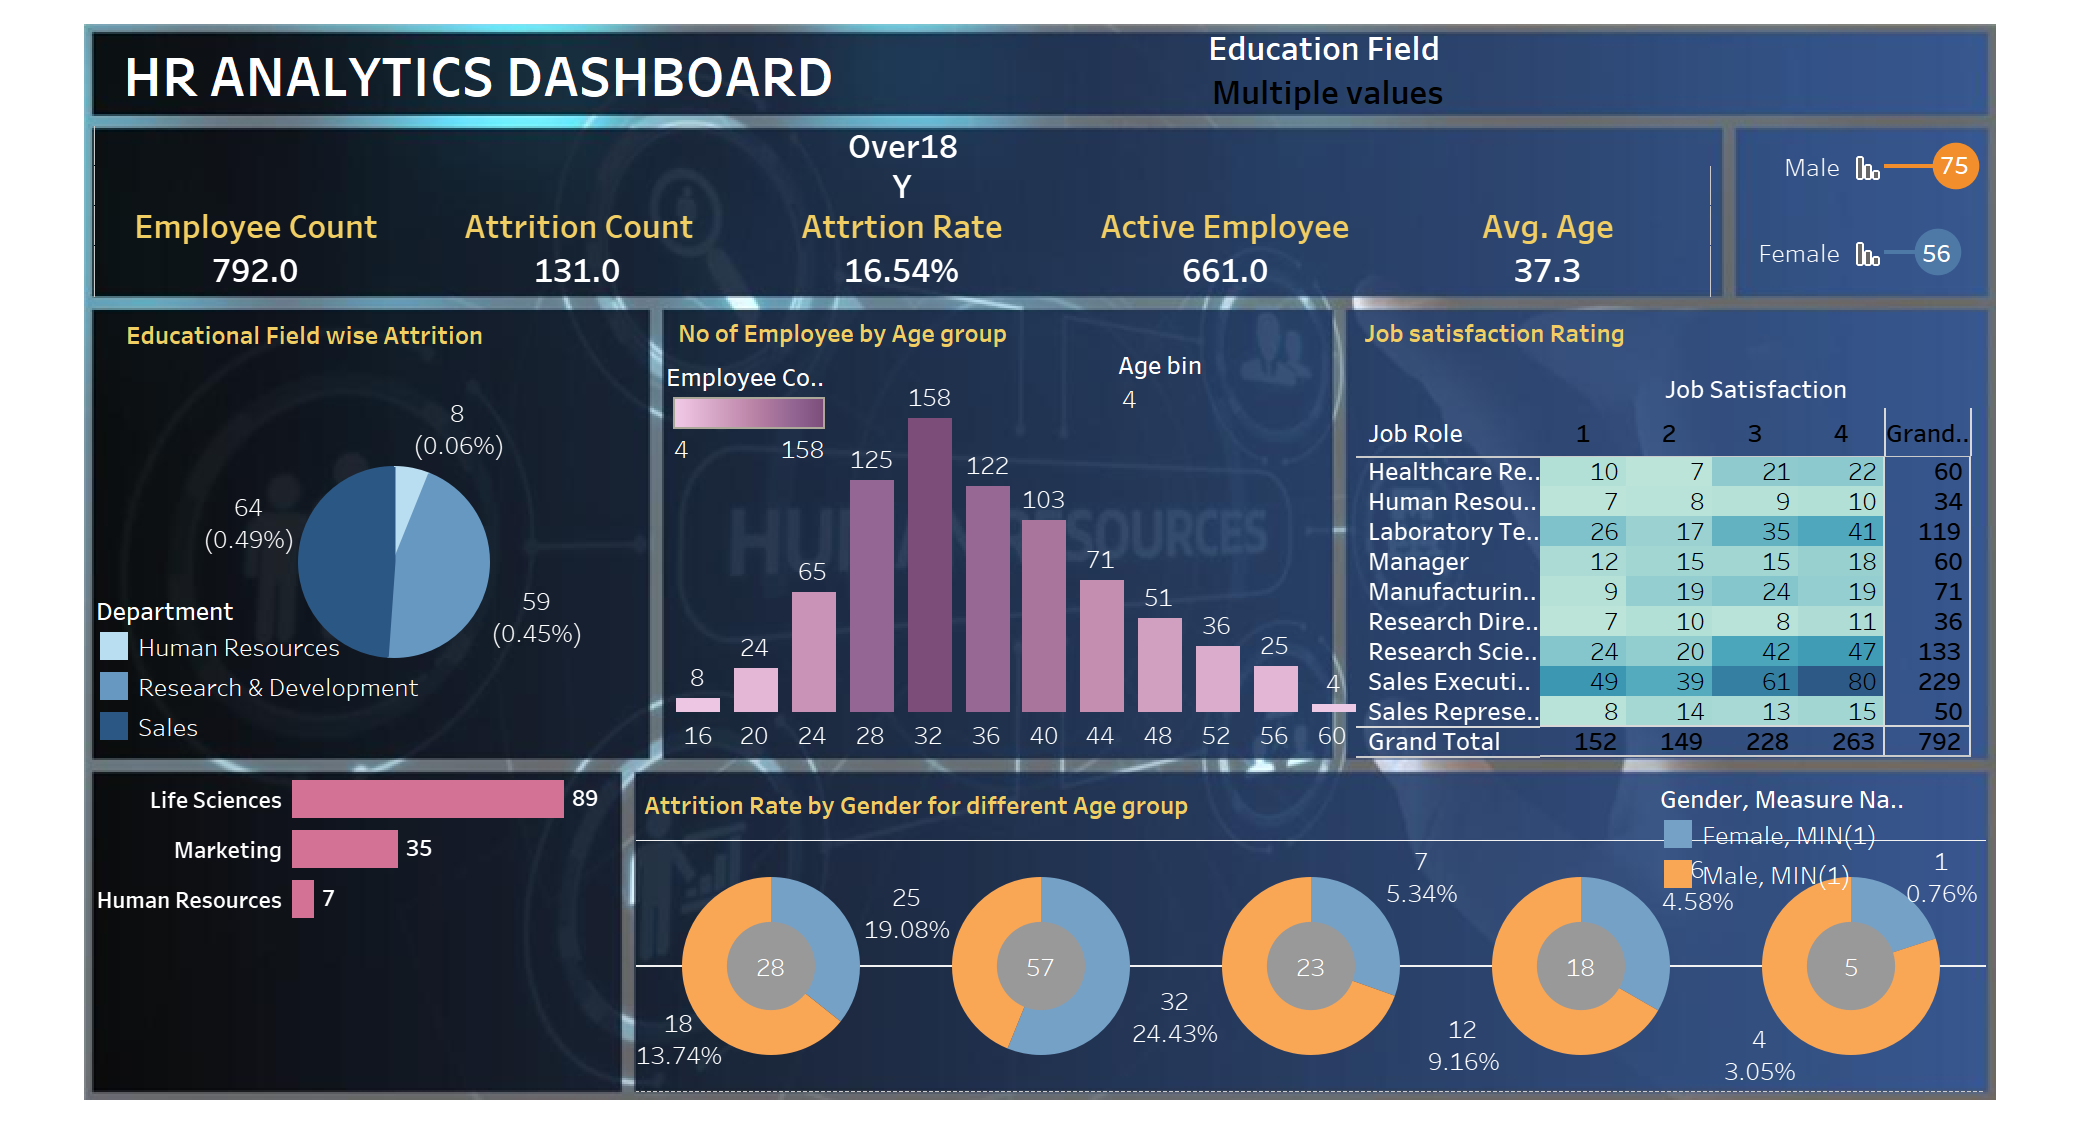

This screenshot's page, from the dashboard's own definition file:
{"tool":"tableau","page":{"name":"Dashboard 1","canvas":[1000,1000],"units":"permille","ordinal":0},"visuals":[{"type":"text","box":[56.6,10.7,717.2,112.1]},{"type":"image","param":"C:/Users/dell/Downloads/HR background.pptx.jpg","box":[7.7,14.2,984.6,971.5]},{"type":"filter","title":"Sheet 2","param":"[federated.0yngvja19u2914122oc5q0o6ifbb].[none:EducationField:nk]","box":[580.6,21.4,139.2,83.6]},{"type":"worksheet","title":"Sheet 3","mark":"Automatic","rows":["Gender"],"cols":["Calculation_738027389071355906","Calculation_738027389071355906"],"box":[828.4,108.5,124.6,154.8]},{"type":"worksheet","title":"Sheet 2","mark":"Automatic","cols":["Over18"],"box":[45.1,112.1,777.4,151.2]},{"type":"worksheet","title":"Sheet 6","mark":"Automatic","rows":["EmployeeCount"],"cols":["Age (bin)"],"box":[322.1,270.5,332.7,400.4]},{"type":"worksheet","title":"Sheet 7","mark":"Square","rows":["JobRole"],"cols":["JobSatisfaction"],"box":[651.9,270.5,318.3,407.5]},{"type":"worksheet","title":"Sheet 5","mark":"Pie","box":[56.7,272.2,265.4,398.6]},{"type":"parameter","param":"[Parameters].[Age (bin) Parameter]","box":[537.5,307.8,105.8,108.5]},{"type":"legend","title":"Sheet 6","param":"[federated.0yngvja19u2914122oc5q0o6ifbb].[sum:EmployeeCount:qk]","box":[320.2,313.2,80.8,101.4]},{"type":"legend","title":"Sheet 5","param":"[federated.0yngvja19u2914122oc5q0o6ifbb].[none:Department:nk]","box":[45.2,524.9,160.6,153]},{"type":"worksheet","title":"Sheet 4","mark":"Automatic","rows":["EducationField"],"cols":["Calculation_738027389071355906"],"box":[44.2,688.6,254.8,286.5]},{"type":"worksheet","title":"Sheet 8","mark":"Pie","rows":["Calculation_1127307282676457473","Calculation_1127307282677542915"],"cols":["Age (bin) (copy)_1127307282679574532"],"box":[306.1,690.4,648.8,281.1]},{"type":"legend","title":"Sheet 8","param":"[federated.0yngvja19u2914122oc5q0o6ifbb].[none:Gender:nk]\n[federated.0yngvja19u2","box":[797.1,692.2,119.2,117.4]}]}

Visuals, with their boxes on the dashboard's canvas, which has no fixed pixel size, in thousandths of its width and height (x1, y1, x2, y2). These are canvas units, not pixel positions in the 2080x1124 screenshot, which may show the page scaled, cropped or inside an application window:
text: x1=57, y1=11, x2=774, y2=123
image: x1=8, y1=14, x2=992, y2=986
"Sheet 2" filter: x1=581, y1=21, x2=720, y2=105
"Sheet 3" worksheet: x1=828, y1=108, x2=953, y2=263
"Sheet 2" worksheet: x1=45, y1=112, x2=822, y2=263
"Sheet 6" worksheet: x1=322, y1=270, x2=655, y2=671
"Sheet 7" worksheet (Square marks): x1=652, y1=270, x2=970, y2=678
"Sheet 5" worksheet (Pie marks): x1=57, y1=272, x2=322, y2=671
parameter: x1=538, y1=308, x2=643, y2=416
"Sheet 6" legend: x1=320, y1=313, x2=401, y2=415
"Sheet 5" legend: x1=45, y1=525, x2=206, y2=678
"Sheet 4" worksheet: x1=44, y1=689, x2=299, y2=975
"Sheet 8" worksheet (Pie marks): x1=306, y1=690, x2=955, y2=972
"Sheet 8" legend: x1=797, y1=692, x2=916, y2=810
